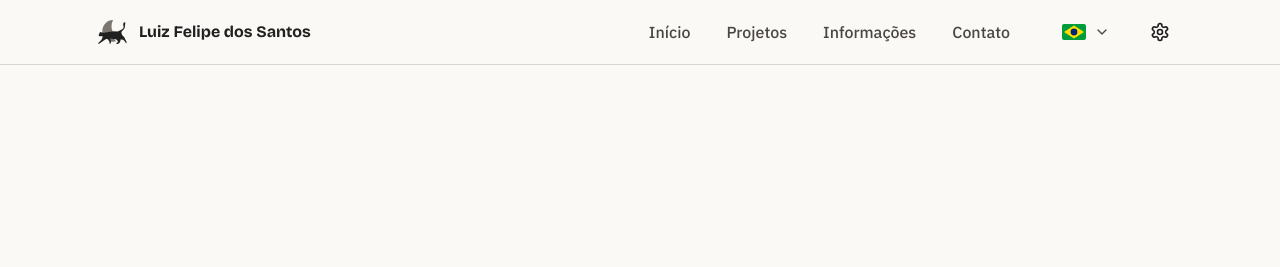
Test: Header › reúne tema e movimento no menu de configurações do cabeçalho
Expected: the header is shown, [0, 0, 1279, 65]
Click the button named "Configurações": (1160, 32) [1138, 10, 1182, 54]
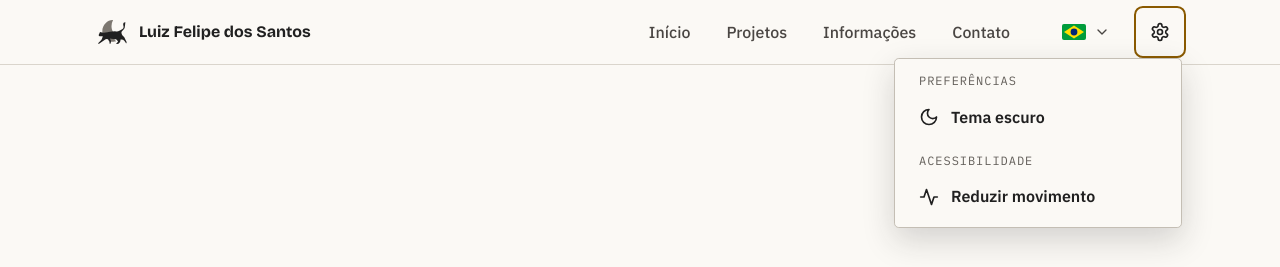
Result: the button "Tema escuro" is shown at [903, 95, 1173, 139]
Result: the button "Reduzir movimento" is shown at [903, 175, 1173, 219]
